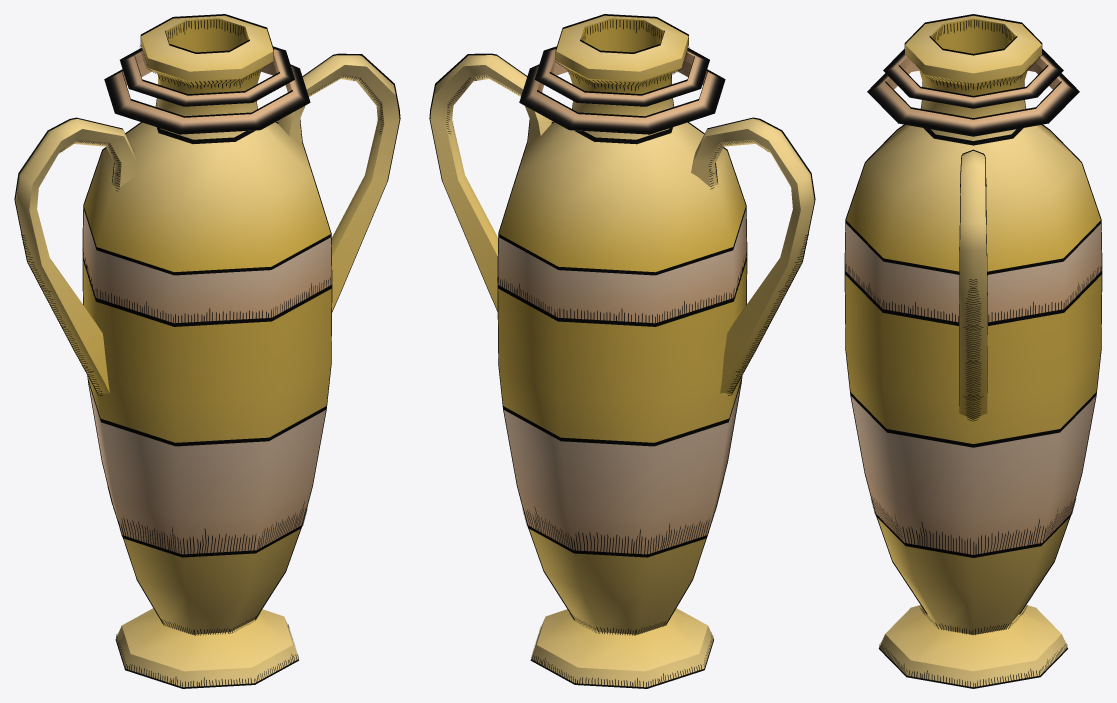
File: crystal-crossroads__Vase_Large.glb
3 renders of one model, left to right at view 1: azimuth 30°, elevation 25°; view 2: azimuth 150°, elevation 25°; view 3: azimuth 270°, elevation 25°, orthographic.
Parts seen in each view (by area): view 1: Vase_Large; view 2: Vase_Large; view 3: Vase_Large.
Boxes of the visible parts, x1=… form: Vase_Large: x1=14, y1=14, x2=400, y2=688; Vase_Large: x1=429, y1=14, x2=815, y2=688; Vase_Large: x1=844, y1=14, x2=1102, y2=688.
Size of the model in its own units: 1.4 by 2.15 by 0.8208.
Materials: 3 (2 with a texture image).
